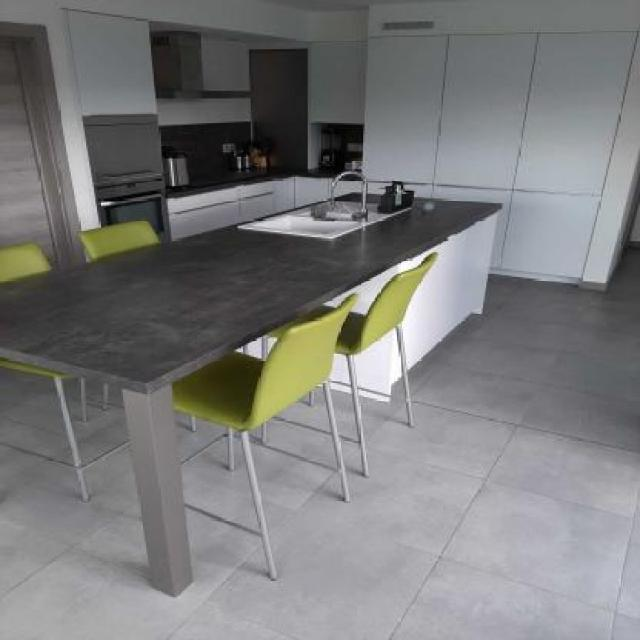Floor: (0, 246, 639, 639), (181, 439, 261, 534), (0, 366, 74, 464), (61, 378, 129, 466), (250, 418, 338, 470), (174, 410, 227, 464), (274, 386, 332, 433), (331, 390, 358, 440), (85, 379, 103, 402), (108, 385, 124, 407), (390, 376, 404, 398), (233, 429, 240, 437)
